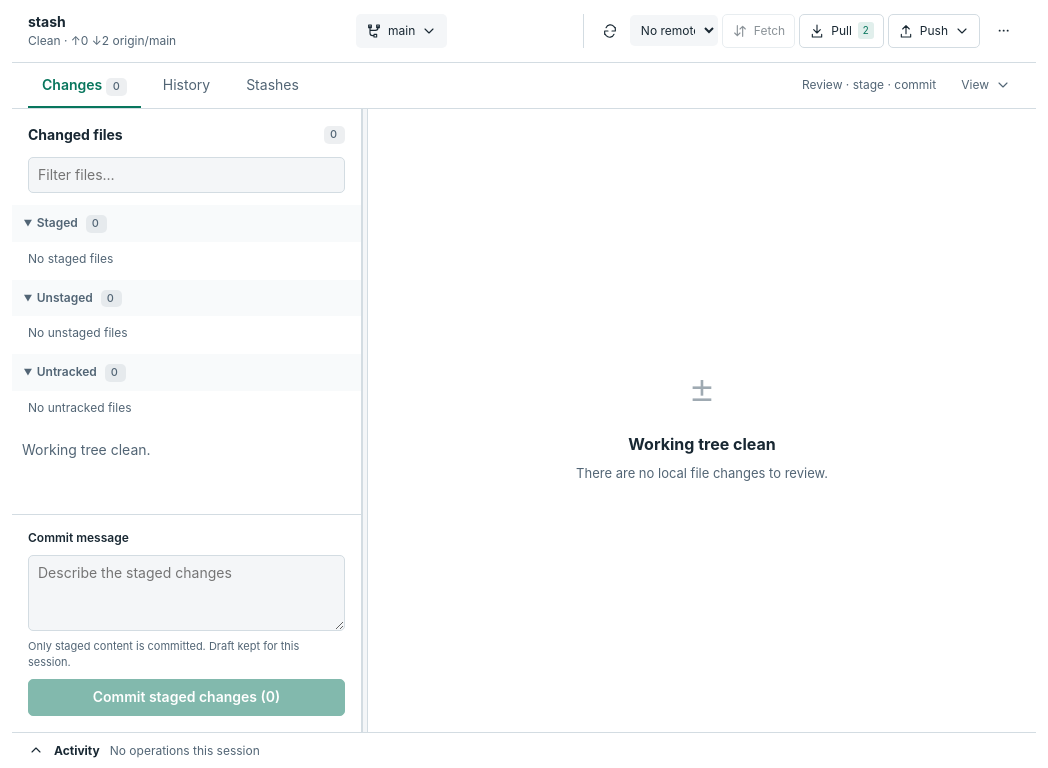
it: stash workspace (mocked IPC) › disables absent untracked inspection without blocking Apply or Delete
Expected: the button named "Refresh" is shown, x1=594 y1=15 x2=626 y2=47
What coordinates should you click on to do the following:
click the button "Stashes"
I would click on:
 (272, 85)
Its box is x1=232 y1=63 x2=313 y2=107.
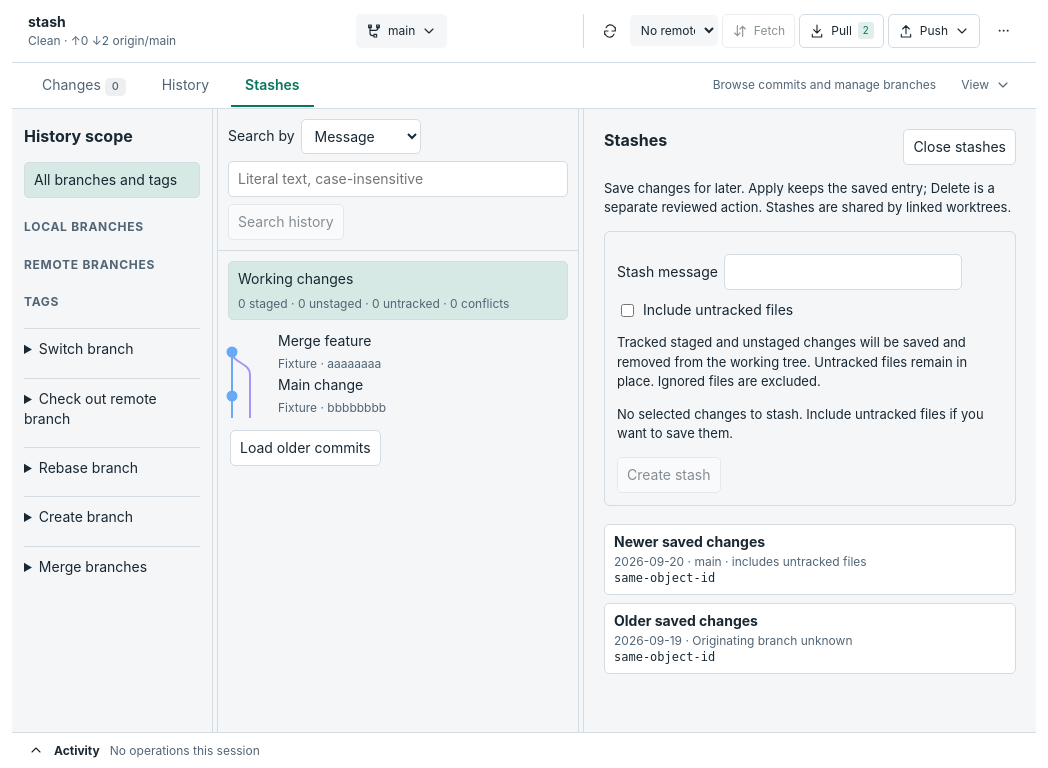
Result: the button "Newer saved changes" is shown at x1=604 y1=524 x2=1016 y2=595
What coordinates should you click on to do the following:
click the button "Older saved changes"
I would click on:
 (810, 639)
Its box is x1=604 y1=603 x2=1016 y2=674.
(page scrolled)
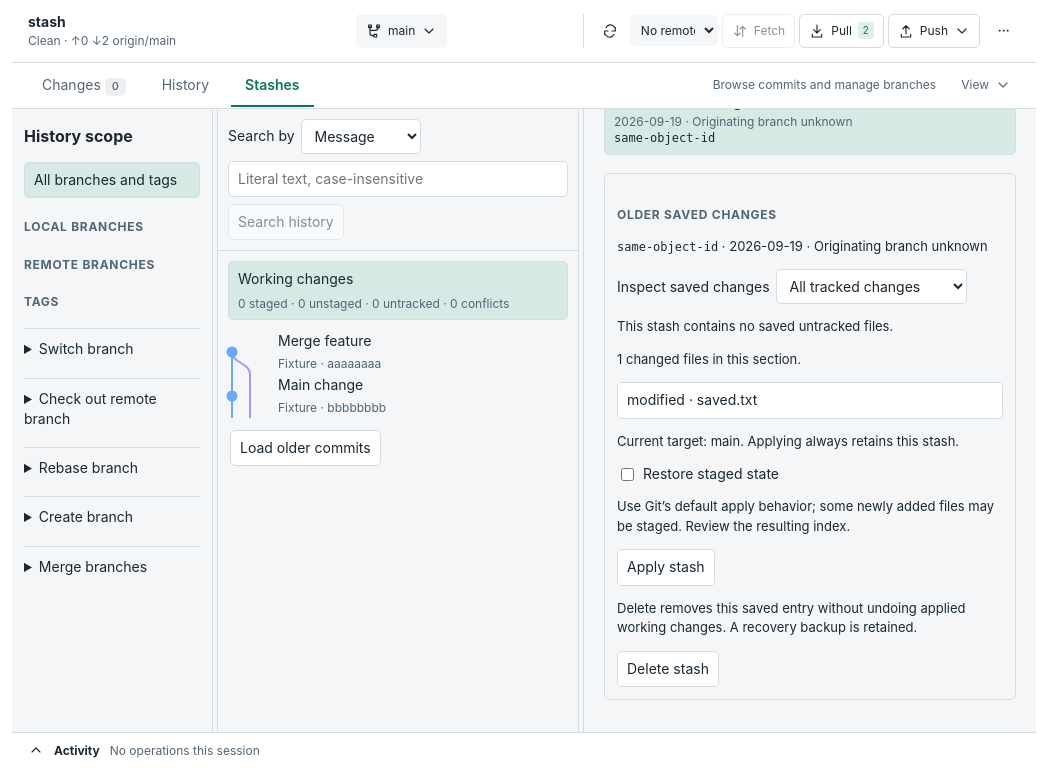
Result: the button "Delete stash" is enabled at x1=617 y1=651 x2=719 y2=687
Result: the text "This stash contains no saved untracked files." is shown at x1=617 y1=318 x2=893 y2=334
Result: the button "Apply stash" is enabled at x1=617 y1=549 x2=715 y2=586
